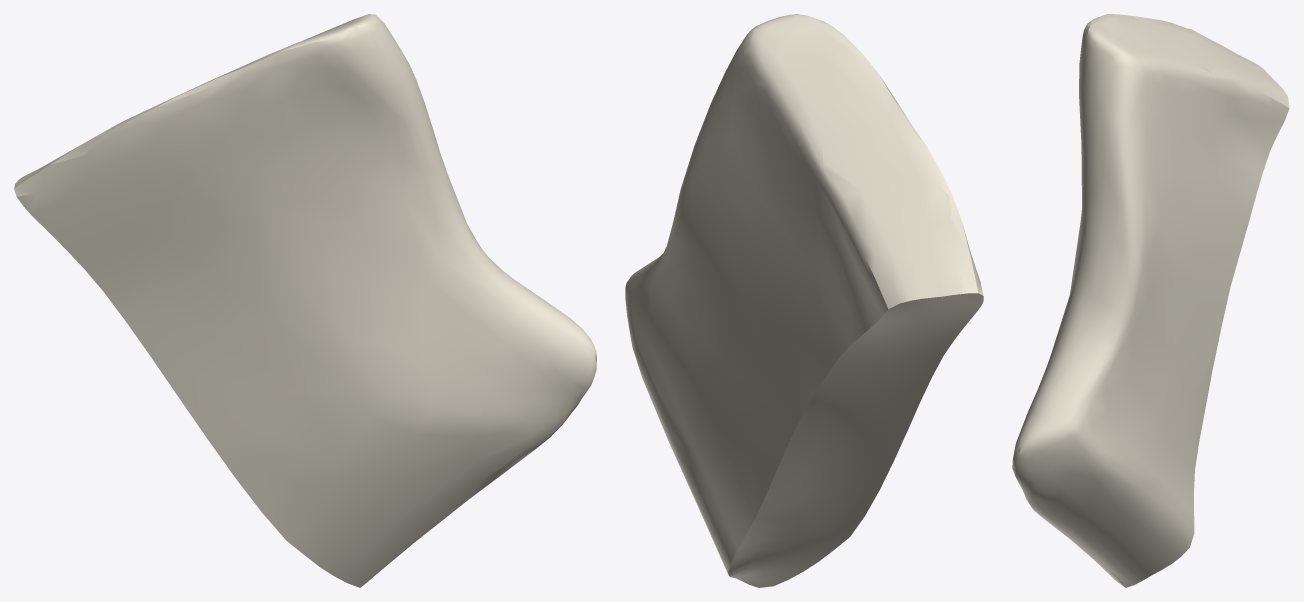
Rendered from fma323751-l_mm2021m.glb.
The picture shows the model from 3 angles, left to right: view 1: azimuth 30°, elevation 25°; view 2: azimuth 150°, elevation 25°; view 3: azimuth 270°, elevation 25°; orthographic projection. The views are drawn at different scales.
Parts seen in each view (by area): view 1: FMA323751-L_MM2021M; view 2: FMA323751-L_MM2021M; view 3: FMA323751-L_MM2021M.
Part boxes in pixels (left/top/right/bottom): FMA323751-L_MM2021M: left=14, top=14, right=596, bottom=587; FMA323751-L_MM2021M: left=625, top=14, right=983, bottom=587; FMA323751-L_MM2021M: left=1012, top=14, right=1289, bottom=587.
Size of the model in its own units: 0.00955 by 0.0113 by 0.00523.
